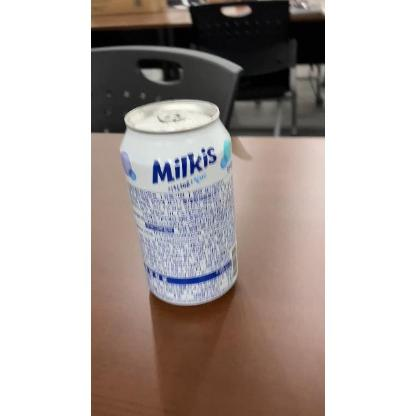Can: (118, 96, 242, 310)
